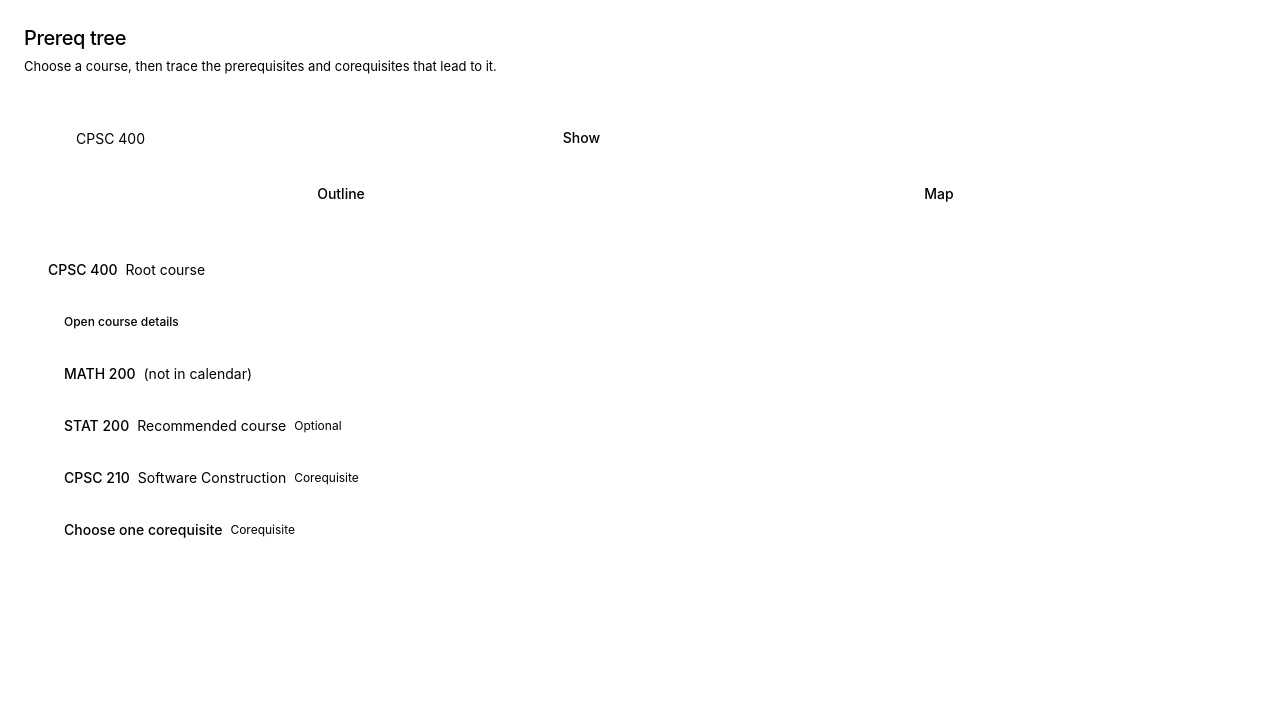
PrereqTreePane › preserves corequisite siblings, their prerequisites, and optional state (true)
Expected: the text "Corequisite" next to "Software Construction" is shown, top-left (294, 470), bottom-right (359, 485)
Expected: the text "Corequisite" next to "Choose one corequisite" is shown, top-left (230, 522), bottom-right (295, 537)
Click the heading "Choose one corequisite Corequisite".
click(180, 530)  # box top-left (64, 521), bottom-right (295, 538)
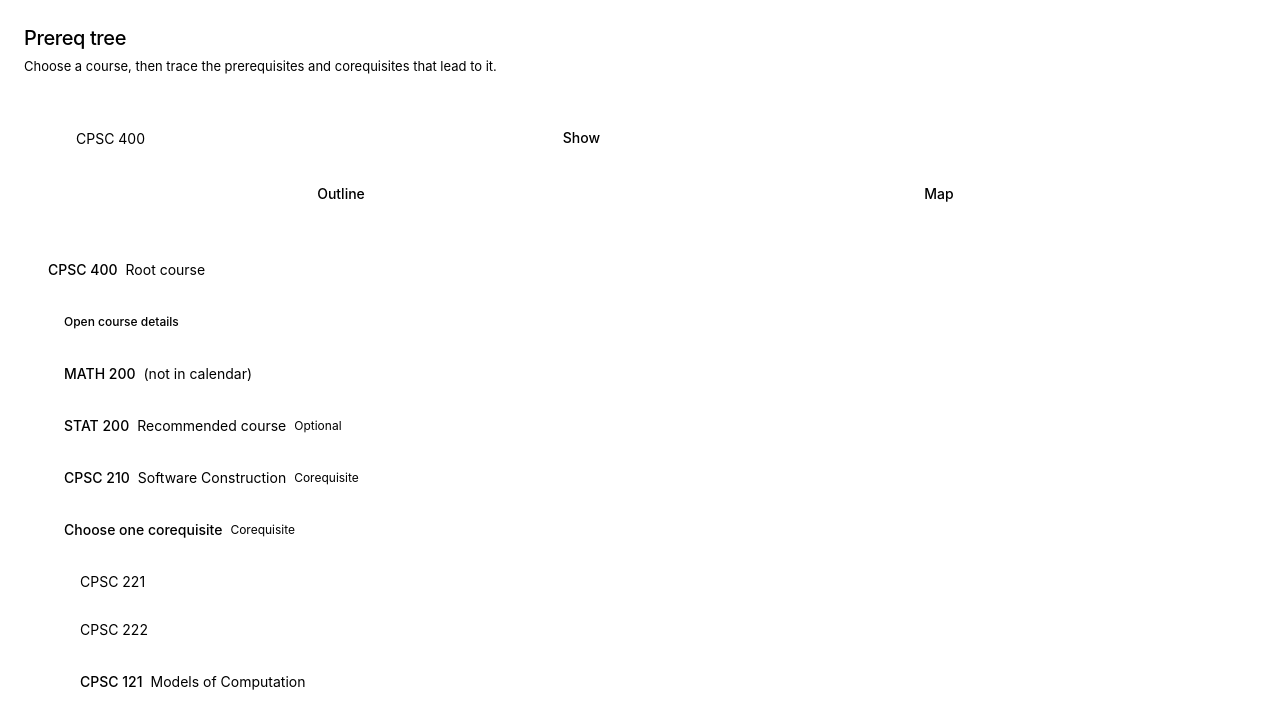
Click the button "CPSC 222".
click(114, 630)  # box top-left (68, 608), bottom-right (1228, 652)
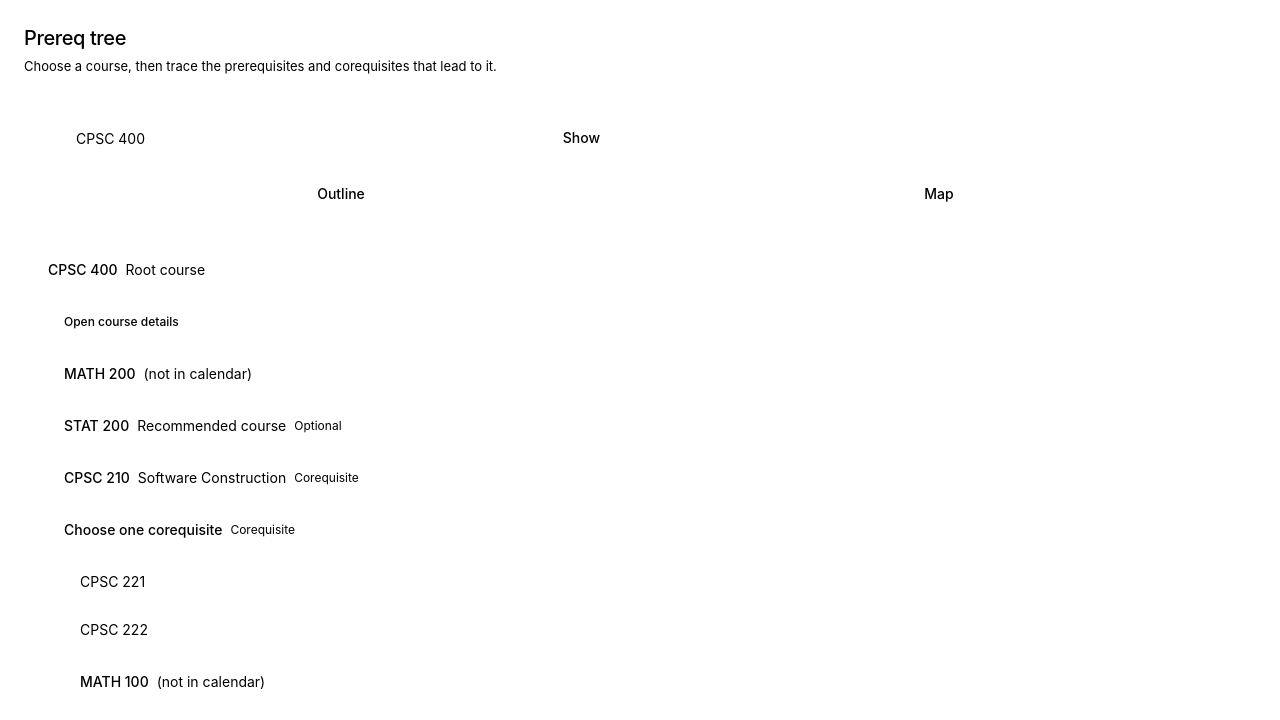
Expected: the text "Optional" is shown, top-left (294, 418), bottom-right (342, 434)
Expected: the heading "CPSC 121" is gone
Click the heading "STAT 200 Recommended course Optional".
click(203, 426)  # box top-left (64, 417), bottom-right (342, 434)
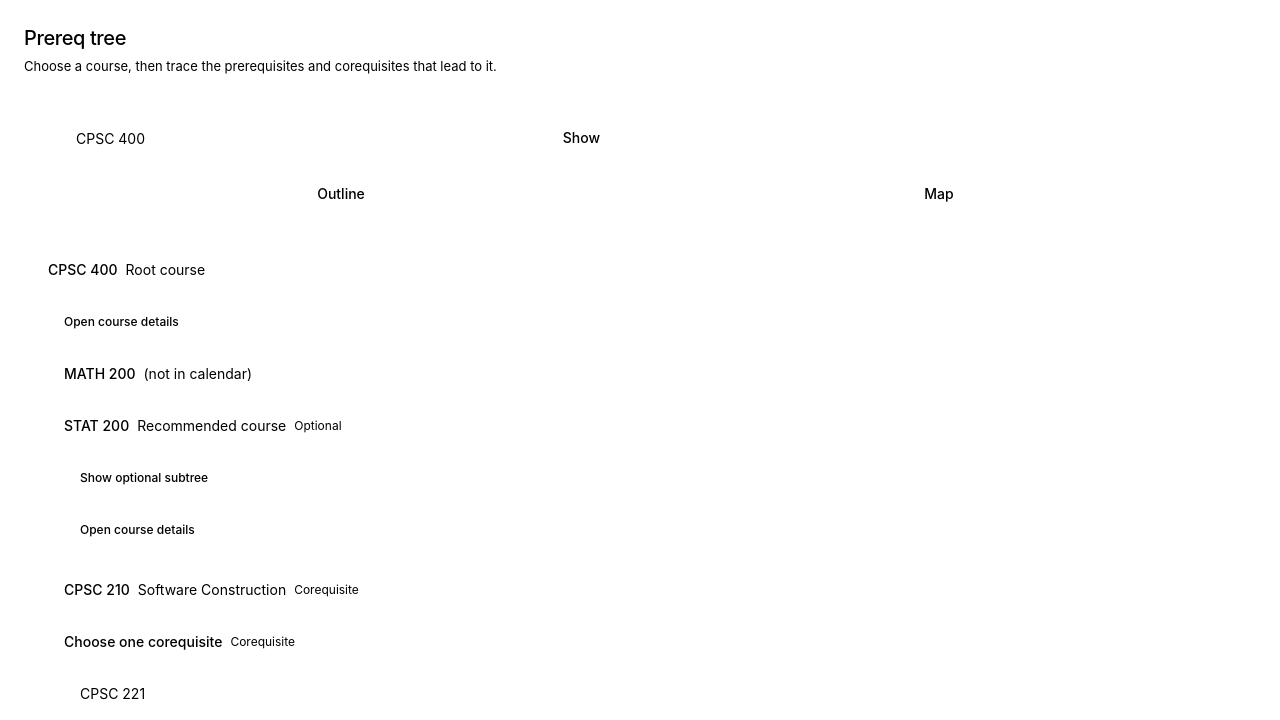
Click the button "Show optional subtree".
click(144, 478)  # box top-left (68, 456), bottom-right (220, 500)
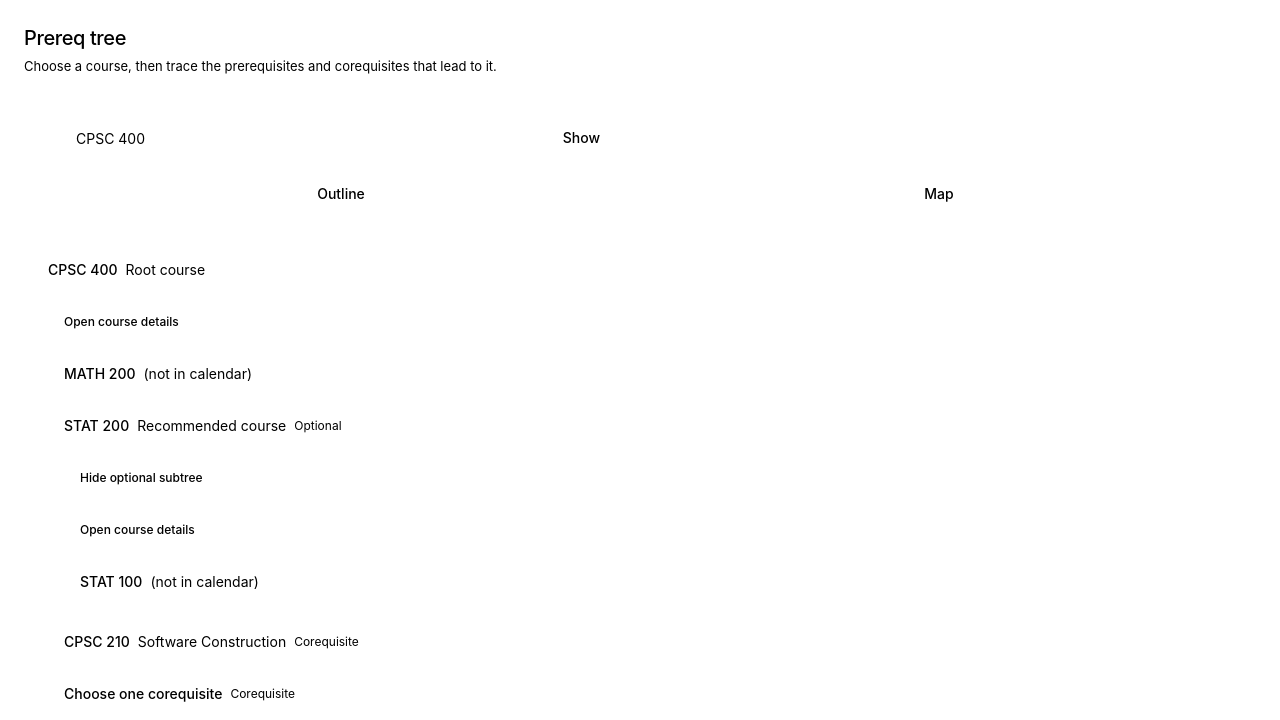
Expected: the button named "Show optional subtree" reads "Hide optional subtree", top-left (68, 456), bottom-right (215, 500)
